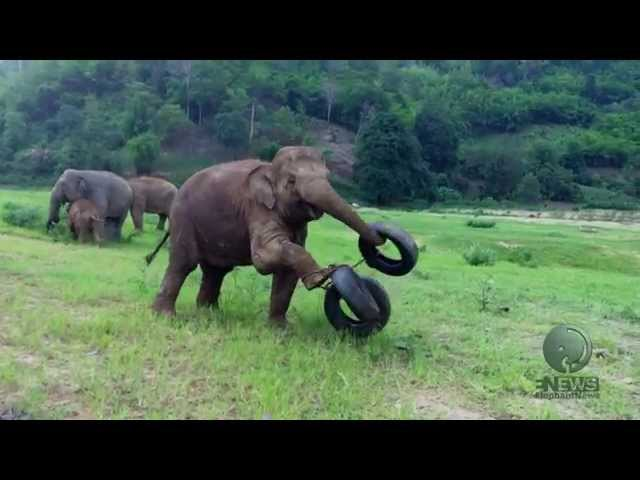elephant: (141, 142, 387, 340), (39, 160, 135, 245)
